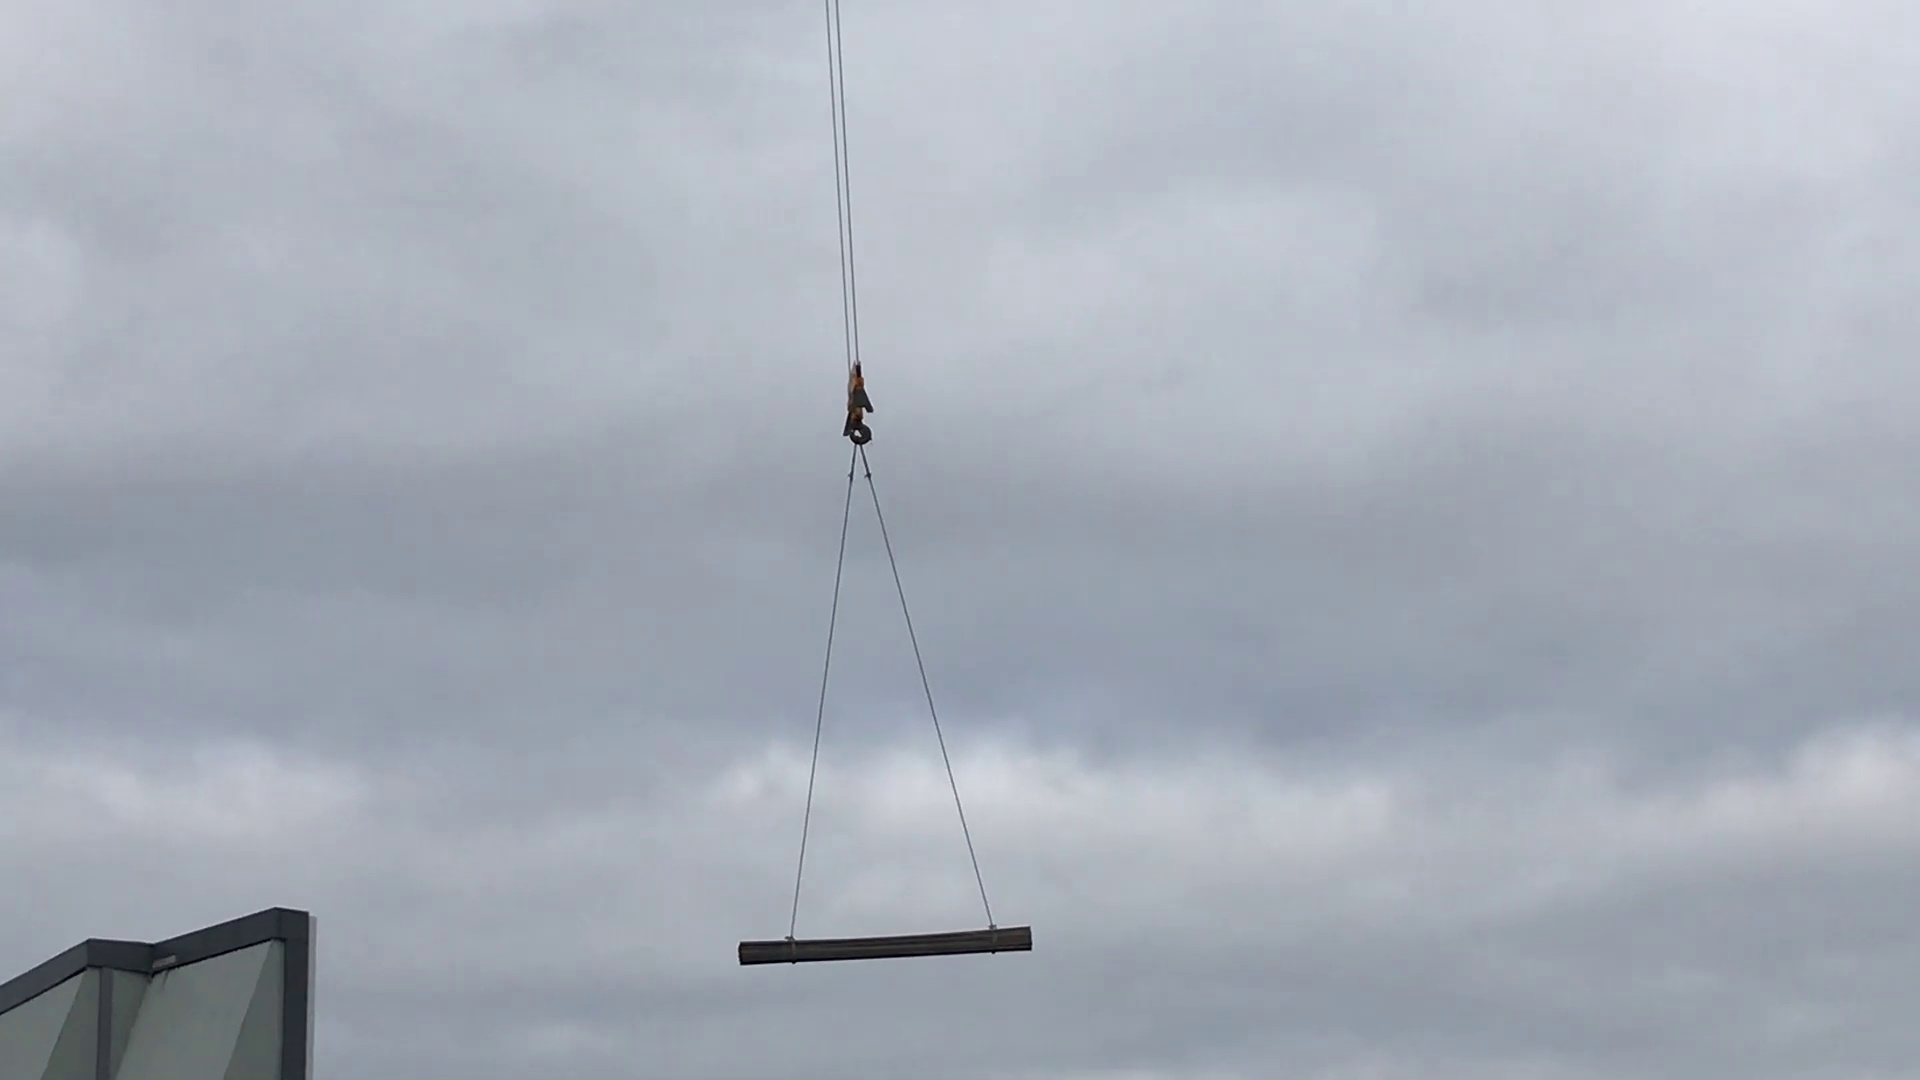hook: (831, 357, 884, 458)
rebar: (724, 905, 1055, 1002)
